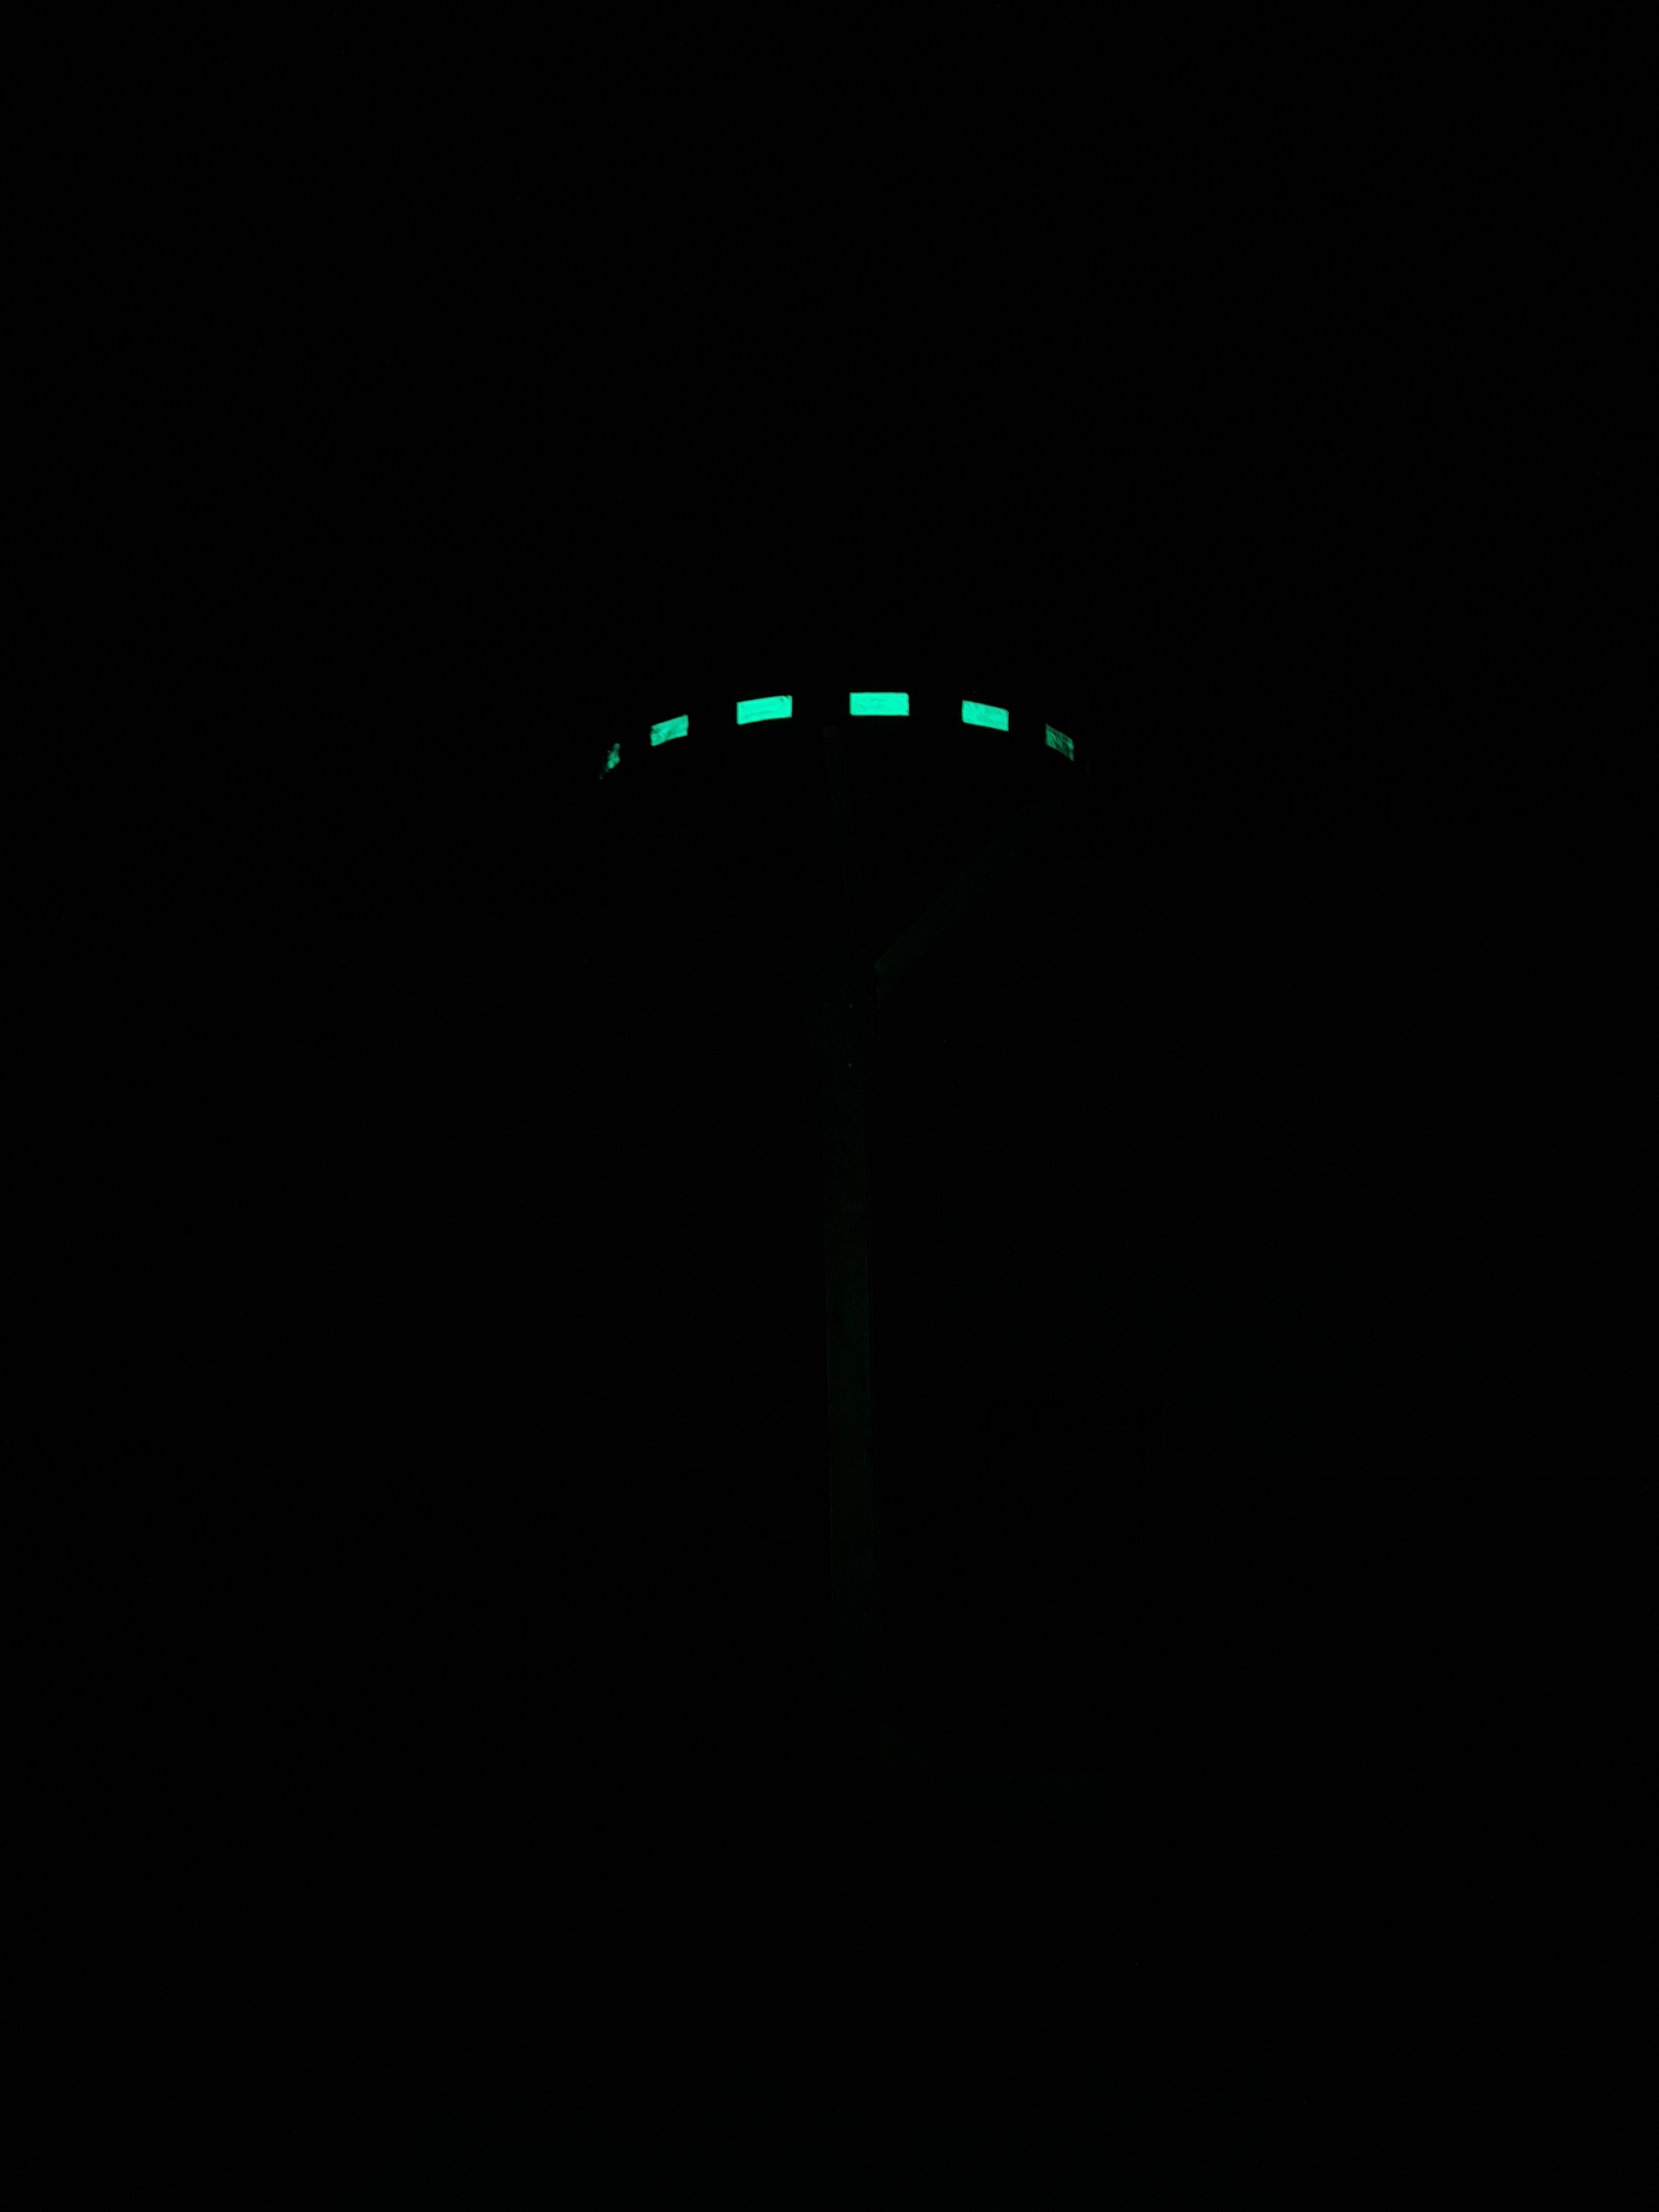hoop: (596, 681, 1079, 786)
